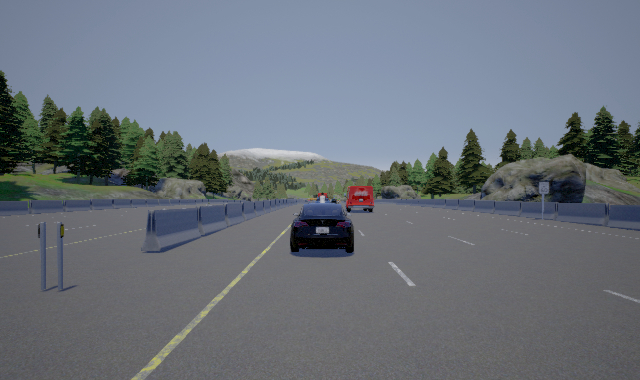traffic_sign: (539, 182, 549, 194)
vehicle: (290, 201, 354, 253), (345, 186, 376, 212)
